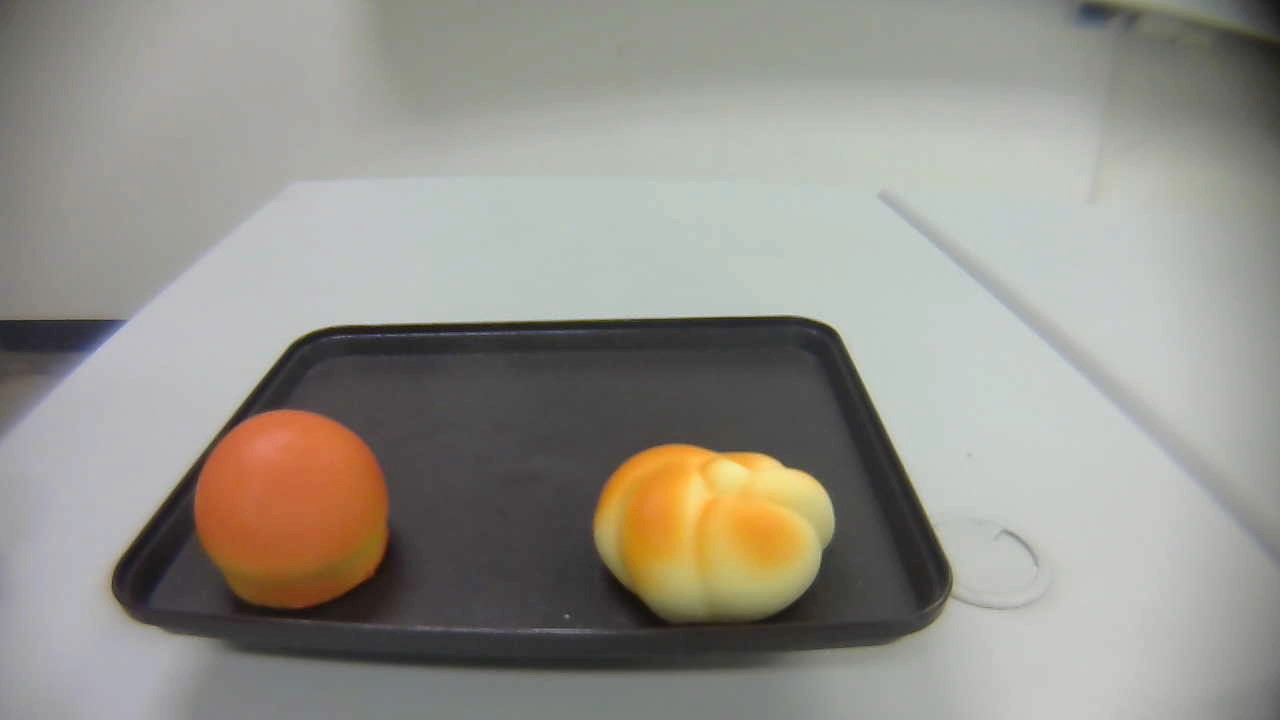bun: (194, 407, 392, 610)
twist bread: (593, 441, 837, 625)
